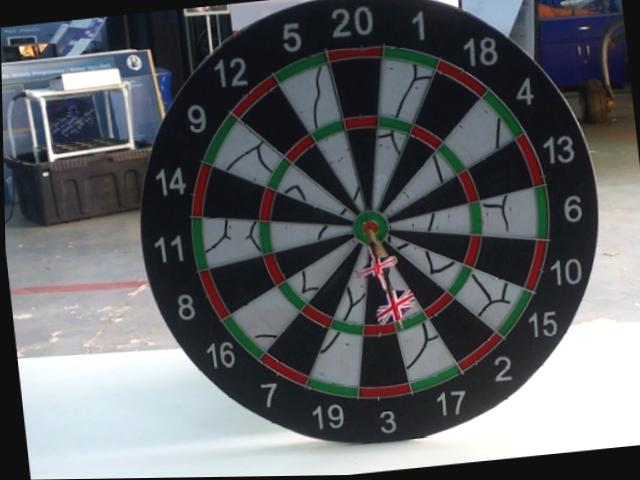bullseye: (361, 214, 383, 240)
